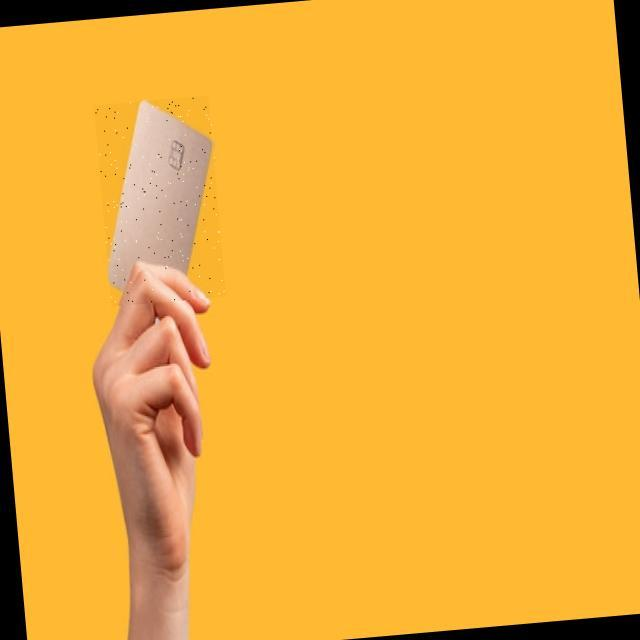payment_card: (107, 98, 213, 294)
